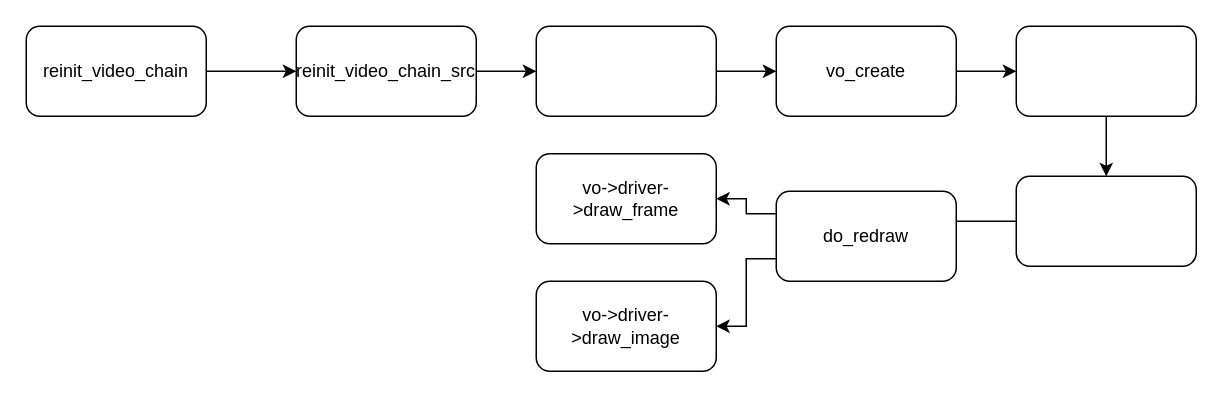
Some shapes in this 1223 by 398 pixel diagram are drawn without their labels. Each missing label, with the box of its shape:
init_best_video_out: (535, 25, 716, 116)
pthread_create: (1015, 25, 1196, 116)
vo_thread: (1015, 175, 1196, 266)
